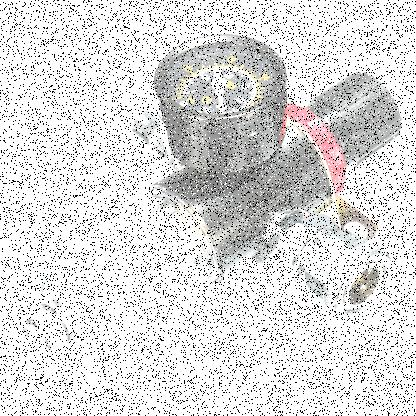needle: (216, 89, 223, 114)
